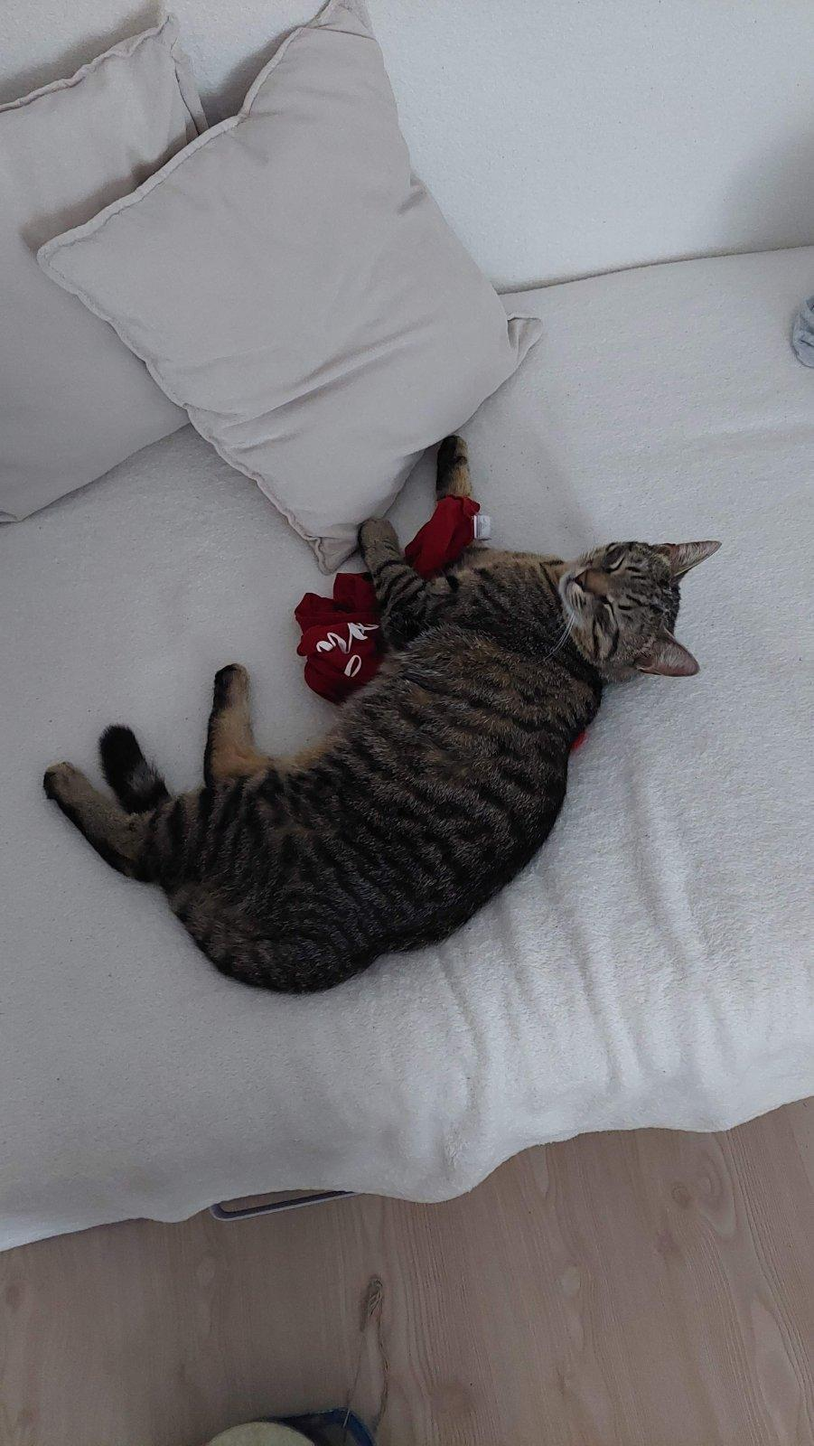macka: (40, 434, 721, 999)
